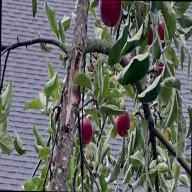Apples: (98, 0, 122, 26), (157, 21, 172, 48), (78, 118, 92, 144), (116, 111, 130, 136), (146, 24, 154, 46), (156, 60, 164, 76)
